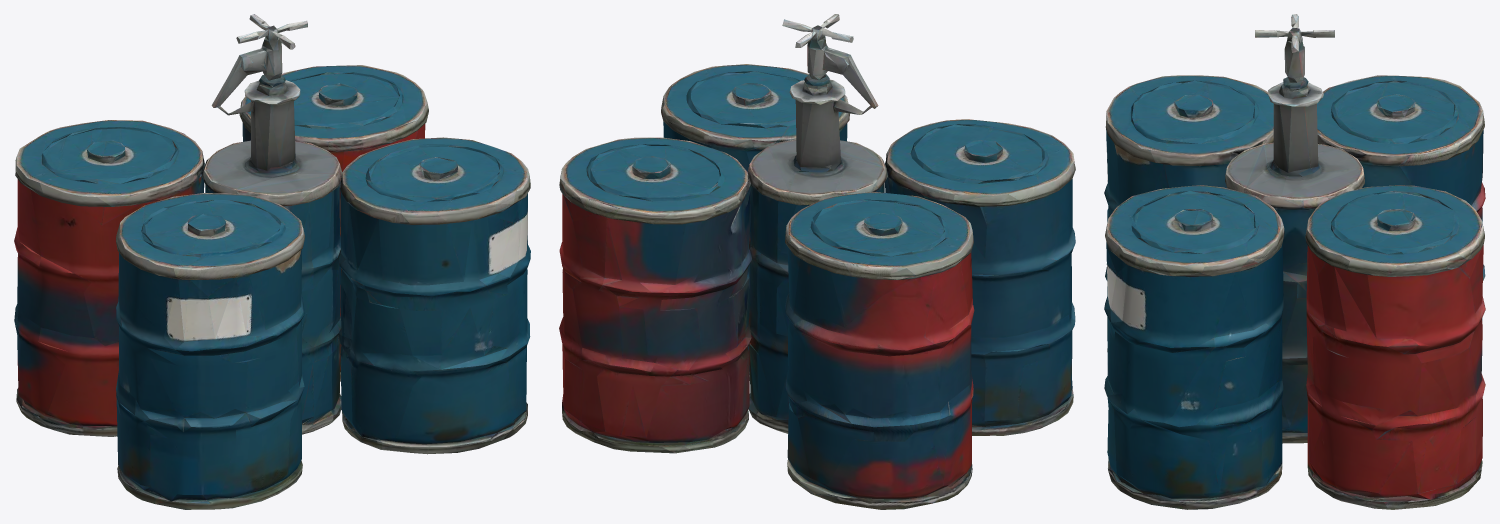
The model's file is garage_drums.glb.
3 renders of one model, left to right at view 1: azimuth 30°, elevation 25°; view 2: azimuth 150°, elevation 25°; view 3: azimuth 270°, elevation 25°, orthographic.
Size of the model in its own units: 1.9 by 1.77 by 1.59.
Materials: 1 (1 with a texture image).
